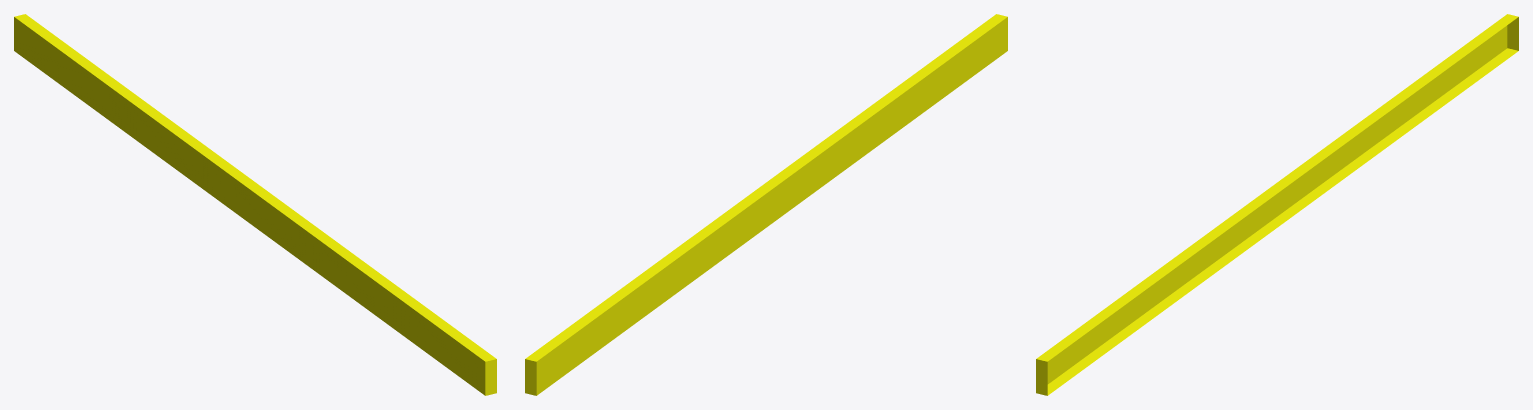
File: Regleta_Pared.fbx
3 renders of one model, left to right at view 1: azimuth 30°, elevation 25°; view 2: azimuth 150°, elevation 25°; view 3: azimuth 330°, elevation 25°, orthographic.
Visible parts, largest first — view 1: pCube1; view 2: pCube1; view 3: pCube1.
Part boxes in pixels (x1,y1,x2,y2): pCube1: [14, 14, 496, 395]; pCube1: [525, 14, 1007, 395]; pCube1: [1036, 14, 1518, 395].
Bounding box in the file's own units: 0.07 × 0.2 × 5.
